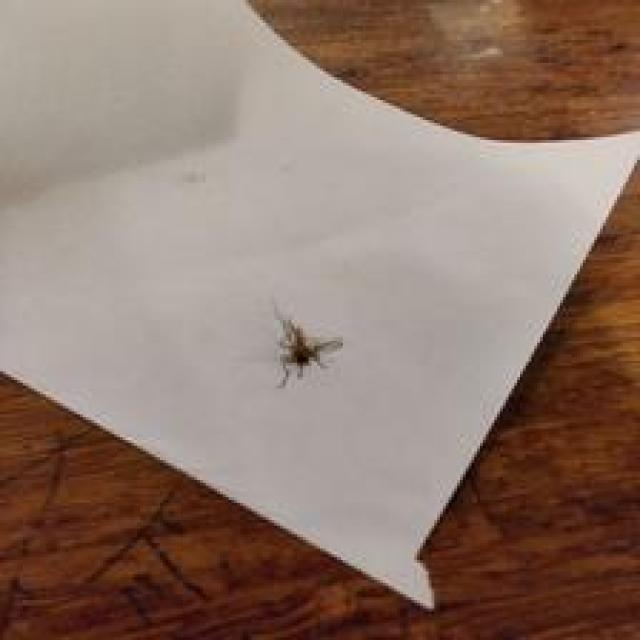Culex: (270, 303, 344, 388)
